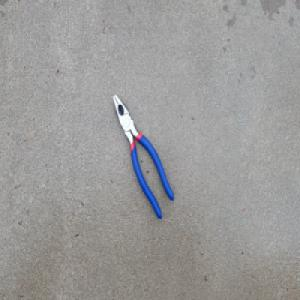Pliers: (111, 91, 175, 222)
